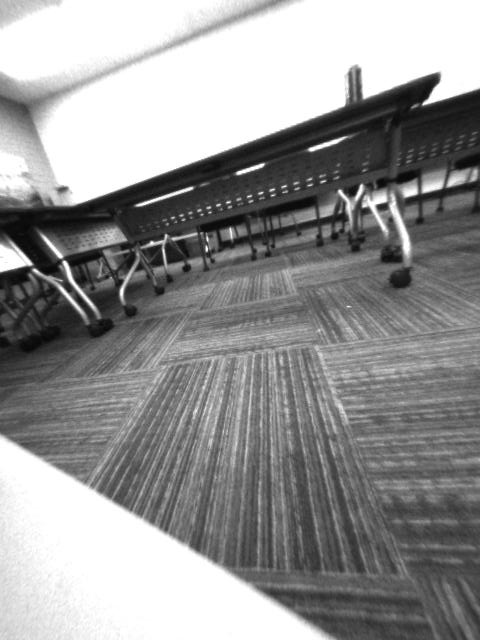can: (340, 65, 368, 106)
